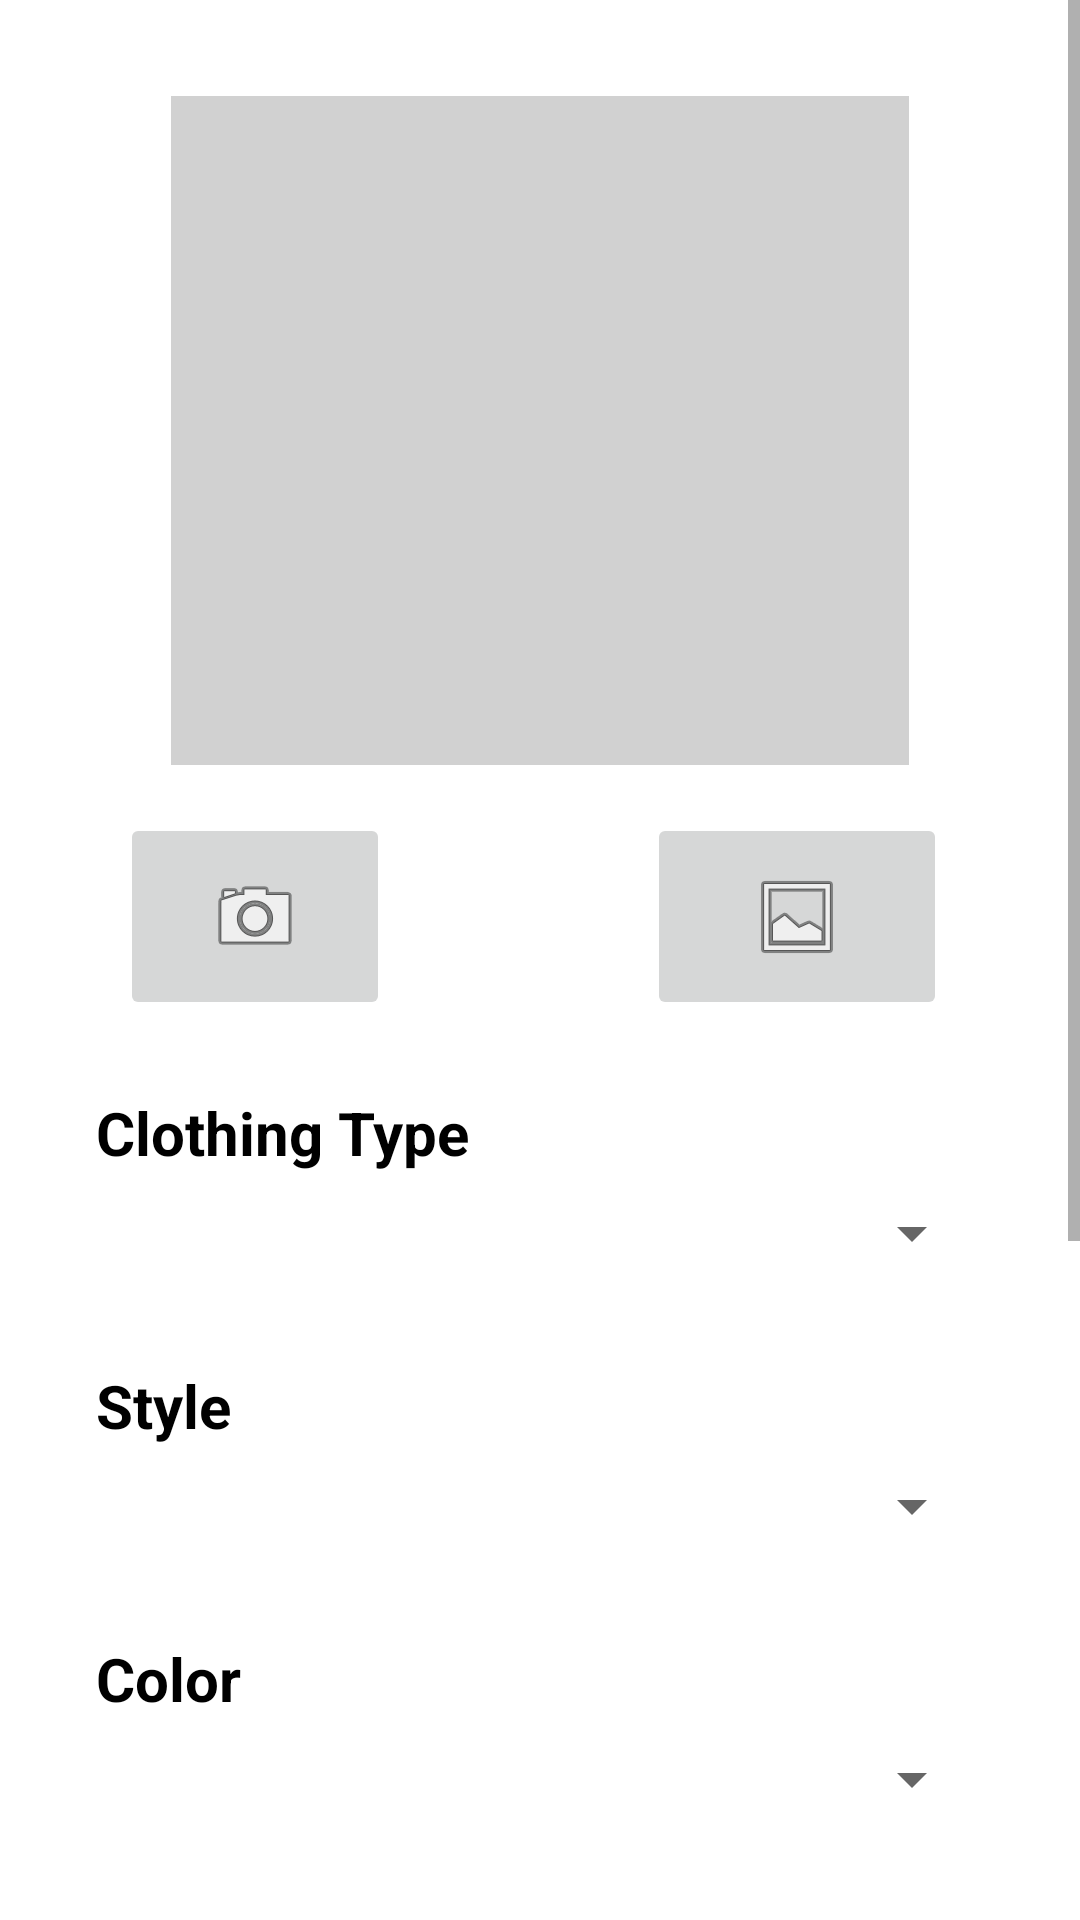

Named icons in this screenshot (1080×1920) and their bounding boxes, Rect(x1, y1, x2, y2):
camera: Rect(132, 831, 378, 1002)
gallery: Rect(659, 831, 935, 1002)
